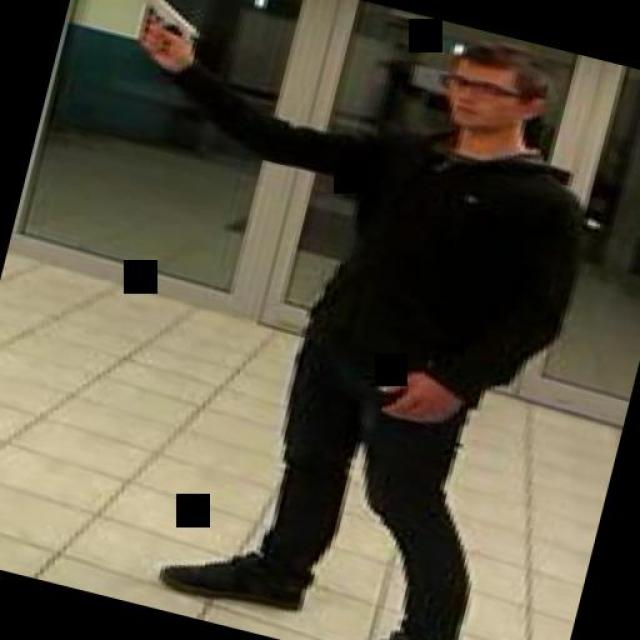gun: (104, 0, 206, 74)
